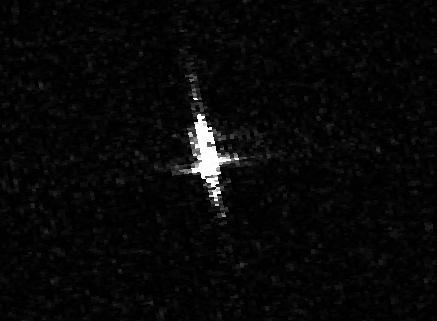ship: (184, 111, 230, 207)
